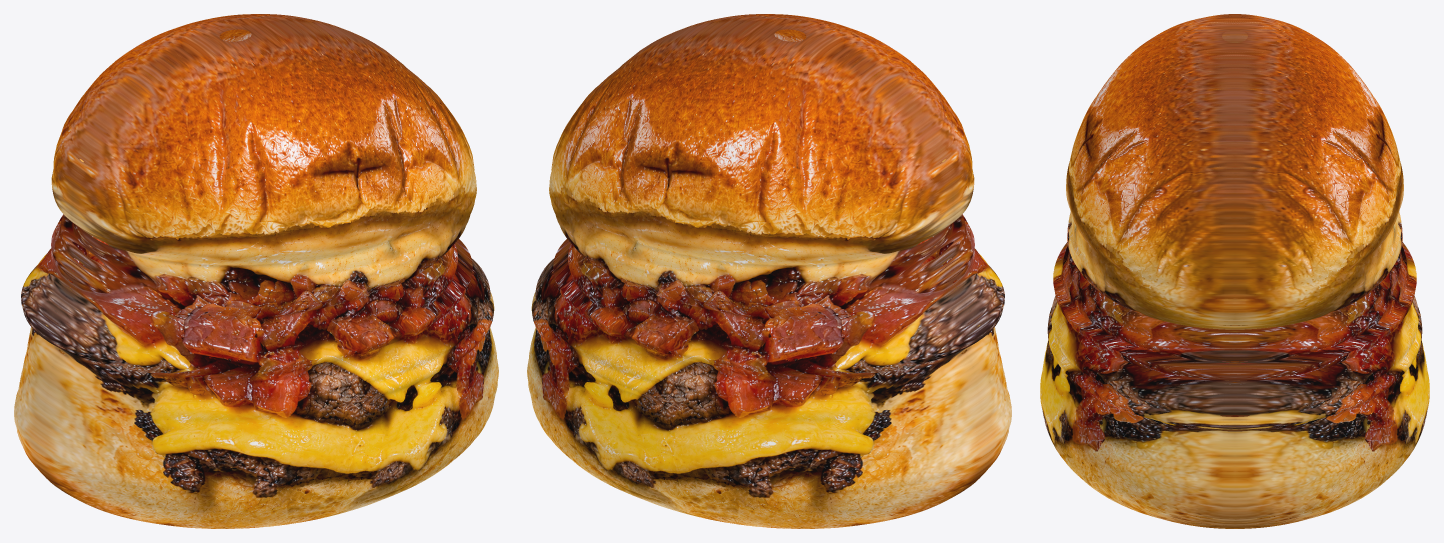
File: atlantica.glb
3 views of the same model, side by side, from view 1: azimuth 30°, elevation 25°; view 2: azimuth 150°, elevation 25°; view 3: azimuth 270°, elevation 25° (orthographic). The views are drawn at different scales.
Visible parts, largest first — view 1: atlantica; view 2: atlantica; view 3: atlantica.
Part boxes in pixels (left/top/right/bottom): atlantica: left=14, top=14, right=498, bottom=528; atlantica: left=527, top=14, right=1011, bottom=528; atlantica: left=1040, top=14, right=1429, bottom=528.
Size of the model in its own units: 2 by 1.97 by 1.61.
Materials: 1 (1 with a texture image).
